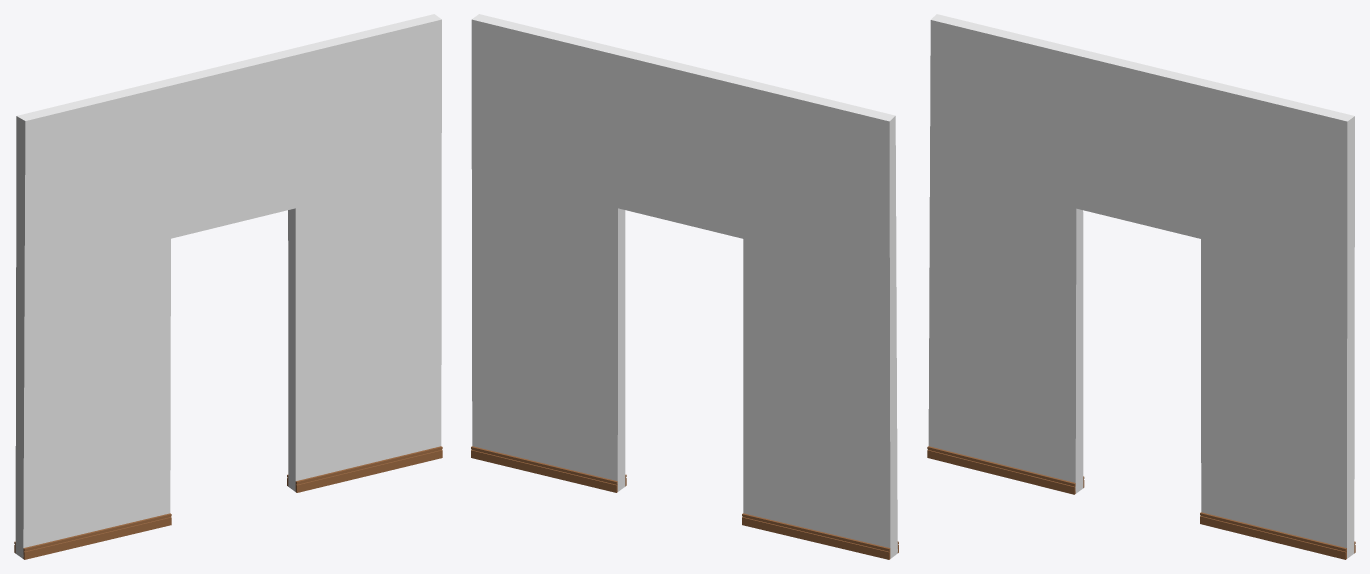
Rendered from door_frame.glb.
The picture shows the model from 3 angles, left to right: view 1: azimuth 30°, elevation 25°; view 2: azimuth 150°, elevation 25°; view 3: azimuth 330°, elevation 25°; orthographic projection.
Visible parts, largest first — view 1: Plane; view 2: Plane; view 3: Plane.
Boxes of the visible parts, box(x1,y1,x2,y2) form: Plane: box(14, 14, 442, 559); Plane: box(471, 14, 898, 559); Plane: box(927, 14, 1355, 559).
Size of the model in its own units: 2 by 2 by 0.0826.
Materials: 1 (1 with a texture image).
